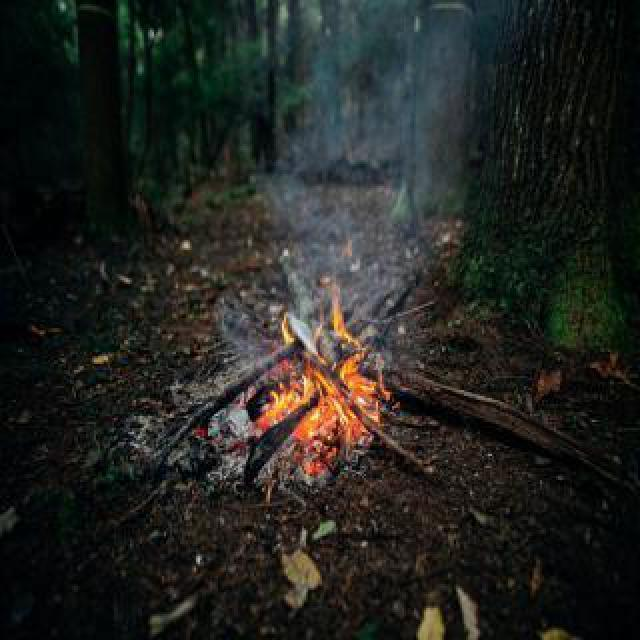Fire: (272, 306, 380, 464)
